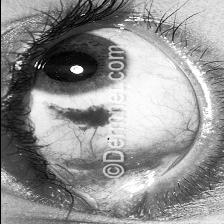Potentially Malignant Skin Tumors: (42, 104, 115, 133)
